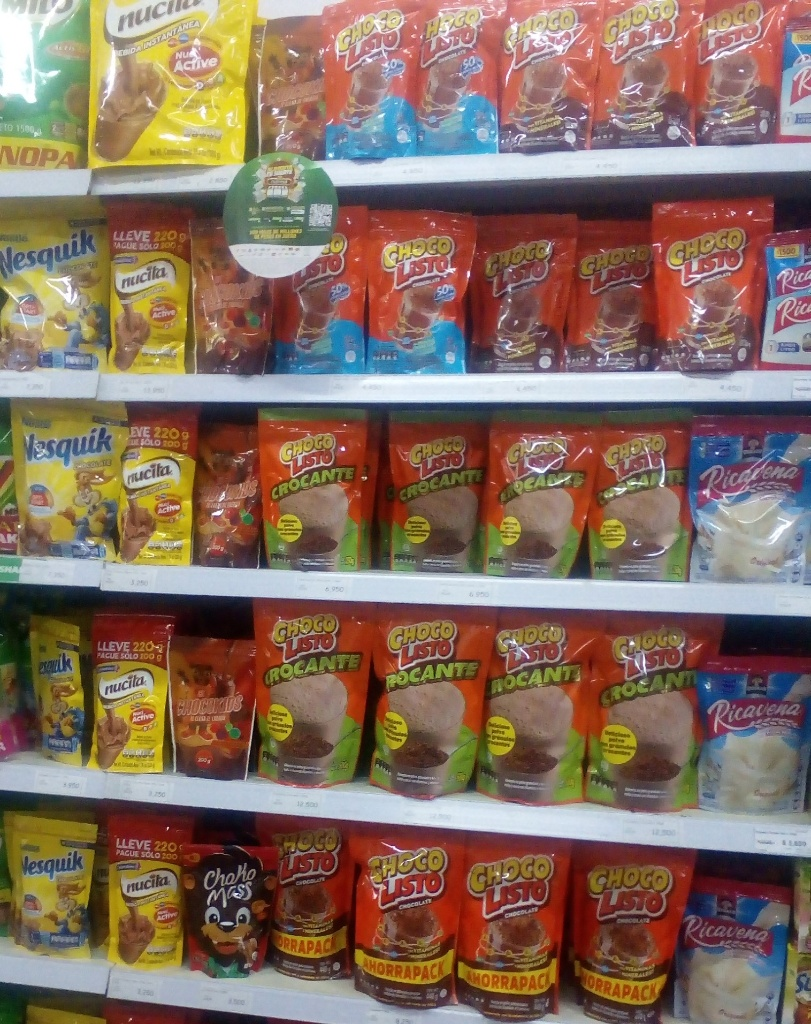COL0170103DYP44000: (569, 843, 697, 1023)
COL0170104DYP20000: (410, 2, 506, 158)
COL0170303DYP20000: (6, 805, 97, 964)
